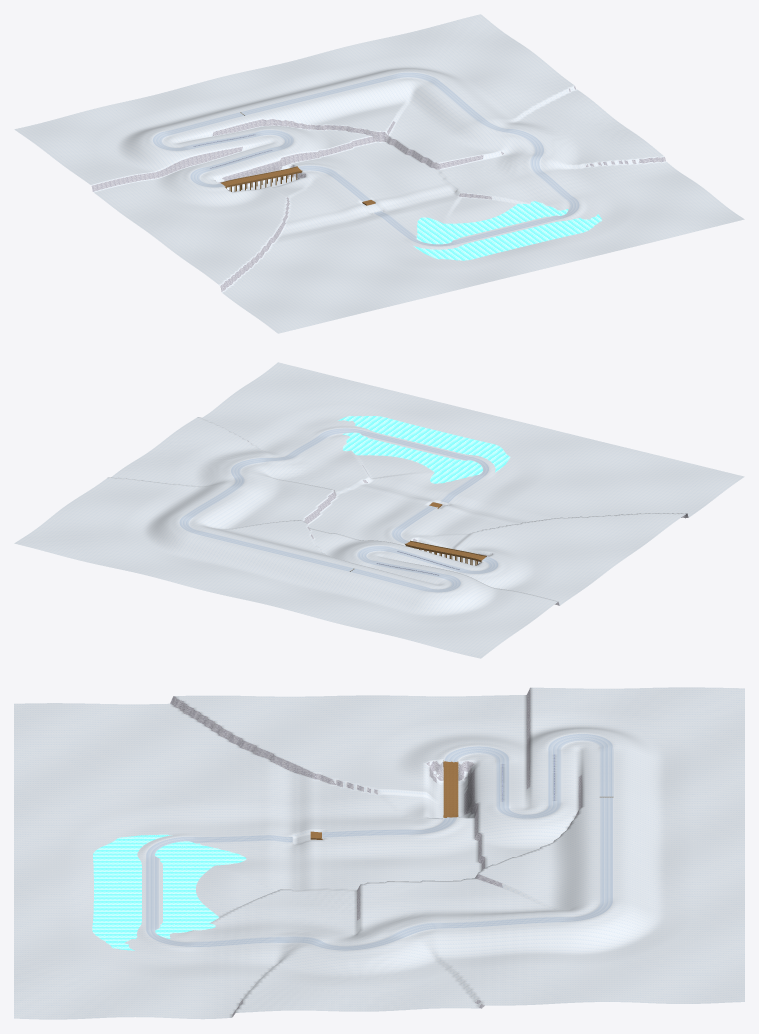
3 views of the same model, one above another, from view 1: azimuth 30°, elevation 25°; view 2: azimuth 150°, elevation 25°; view 3: azimuth 270°, elevation 25° (orthographic). The views are drawn at different scales.
Parts seen in each view (by area): view 1: Land, Frozen Lake, Road 06 deck, Road 15 road, Road 17 road; view 2: Land, Frozen Lake, Road 06 deck, Road 04 road, Road 01 road; view 3: Land, Frozen Lake, Road 02 road, Road 16 road, Road 05 road, Road 06 deck, Road 03 road, Road 11 road, Road 18 road, Road 19 road, Road 14 road, Road 01 road (+5 smaller).
Boxes of the visible parts, x1,y1,x2,y2 form: Land: (14, 14, 744, 333); Frozen Lake: (413, 201, 601, 260); Road 06 deck: (221, 166, 302, 187); Road 15 road: (511, 129, 544, 171); Road 17 road: (393, 72, 461, 100); Land: (14, 362, 744, 658); Frozen Lake: (338, 416, 510, 483); Road 06 deck: (405, 540, 486, 561); Road 04 road: (360, 545, 443, 566); Road 01 road: (349, 568, 430, 591); Land: (14, 687, 744, 1019); Frozen Lake: (92, 834, 246, 950); Road 02 road: (546, 733, 614, 767); Road 16 road: (387, 919, 507, 940); Road 05 road: (443, 745, 510, 775); Road 06 deck: (443, 760, 458, 817); Road 03 road: (528, 767, 562, 819); Road 11 road: (167, 834, 292, 843); Road 18 road: (598, 849, 614, 901); Road 19 road: (598, 797, 614, 848); Road 14 road: (160, 936, 285, 947); Road 01 road: (598, 746, 614, 797).
Size of the model in its own units: 863 by 41.8 by 845.
9 materials, 9 textured.
